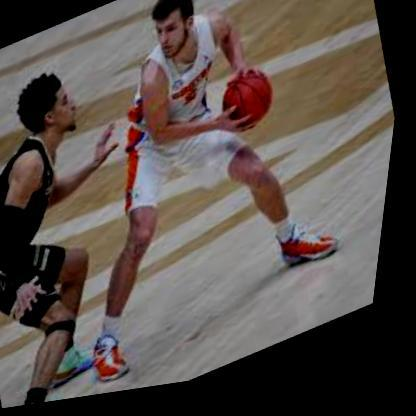basketball: (214, 71, 286, 147)
